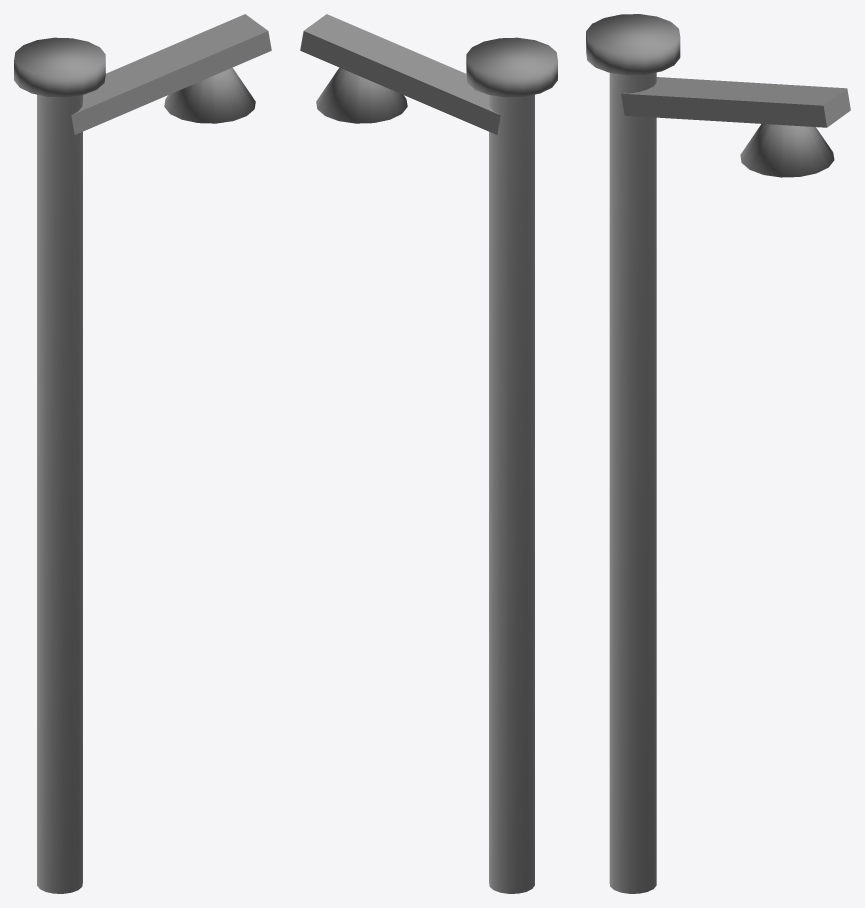
The model's file is lantern.obj.
3 renders of one model, left to right at view 1: azimuth 30°, elevation 25°; view 2: azimuth 150°, elevation 25°; view 3: azimuth 330°, elevation 25°, orthographic. The views are drawn at different scales.
Visible parts, largest first — view 1: Cube_Cube.002; view 2: Cube_Cube.002; view 3: Cube_Cube.002.
Part boxes in pixels (left/top/right/bottom): Cube_Cube.002: left=14, top=14, right=271, bottom=893; Cube_Cube.002: left=300, top=14, right=557, bottom=893; Cube_Cube.002: left=586, top=14, right=850, bottom=893.
Size of the model in its own units: 1.2 by 3.95 by 0.4.
